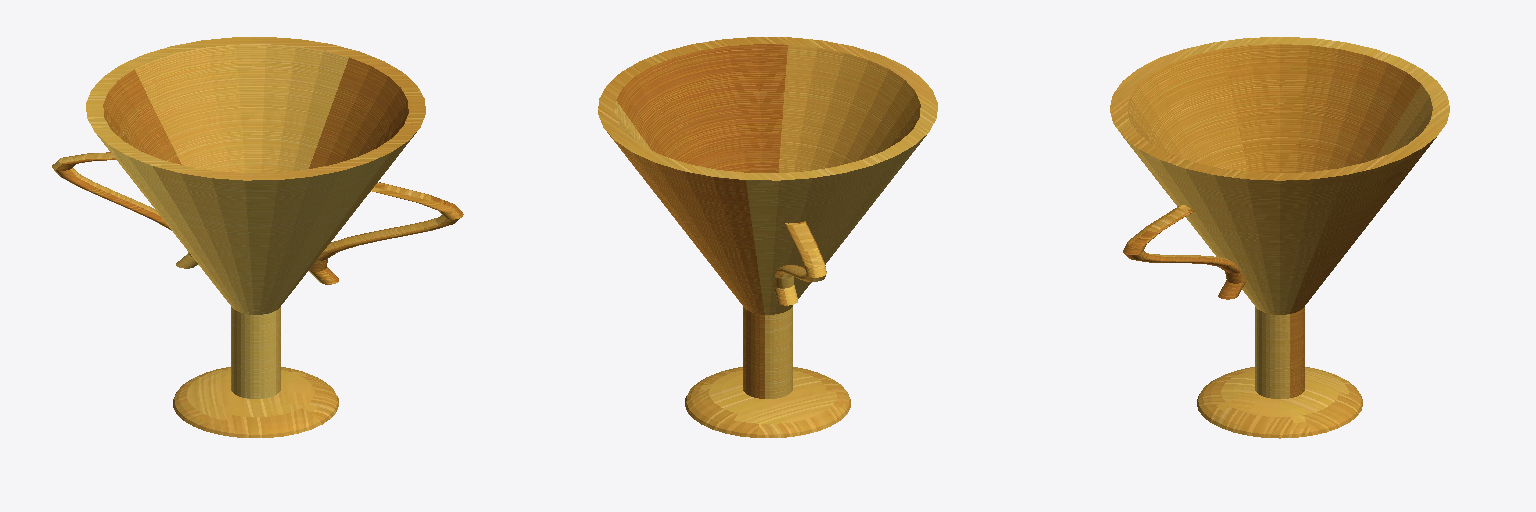
3 views of the same model, side by side, from view 1: azimuth 30°, elevation 25°; view 2: azimuth 150°, elevation 25°; view 3: azimuth 270°, elevation 25° (orthographic).
Parts seen in each view (by area): view 1: Esfera.002_Esfera.003; view 2: Esfera.002_Esfera.003; view 3: Esfera.002_Esfera.003.
Part boxes in pixels (left/top/right/bottom): Esfera.002_Esfera.003: left=52, top=37, right=463, bottom=437; Esfera.002_Esfera.003: left=598, top=37, right=937, bottom=437; Esfera.002_Esfera.003: left=1110, top=37, right=1449, bottom=438.
Bounding box in the file's own units: 0.9012 × 0.8591 × 0.9012.
1 materials, 1 textured.